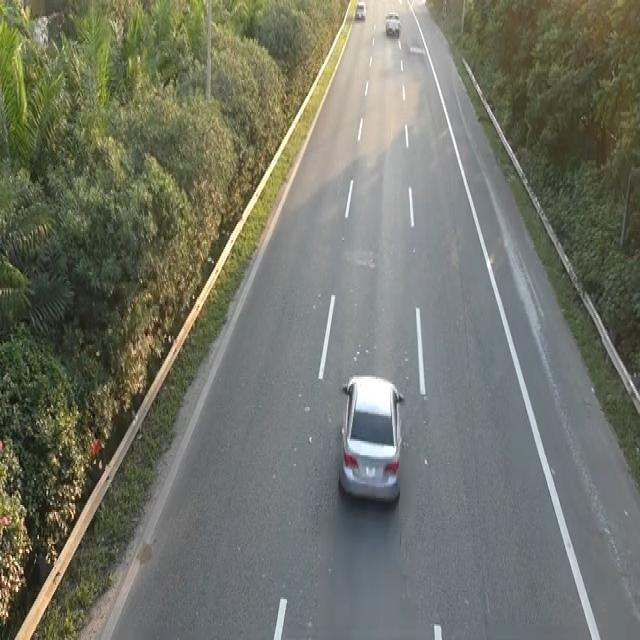bus: (336, 368, 405, 507), (354, 0, 366, 20)
car: (384, 9, 401, 37)
